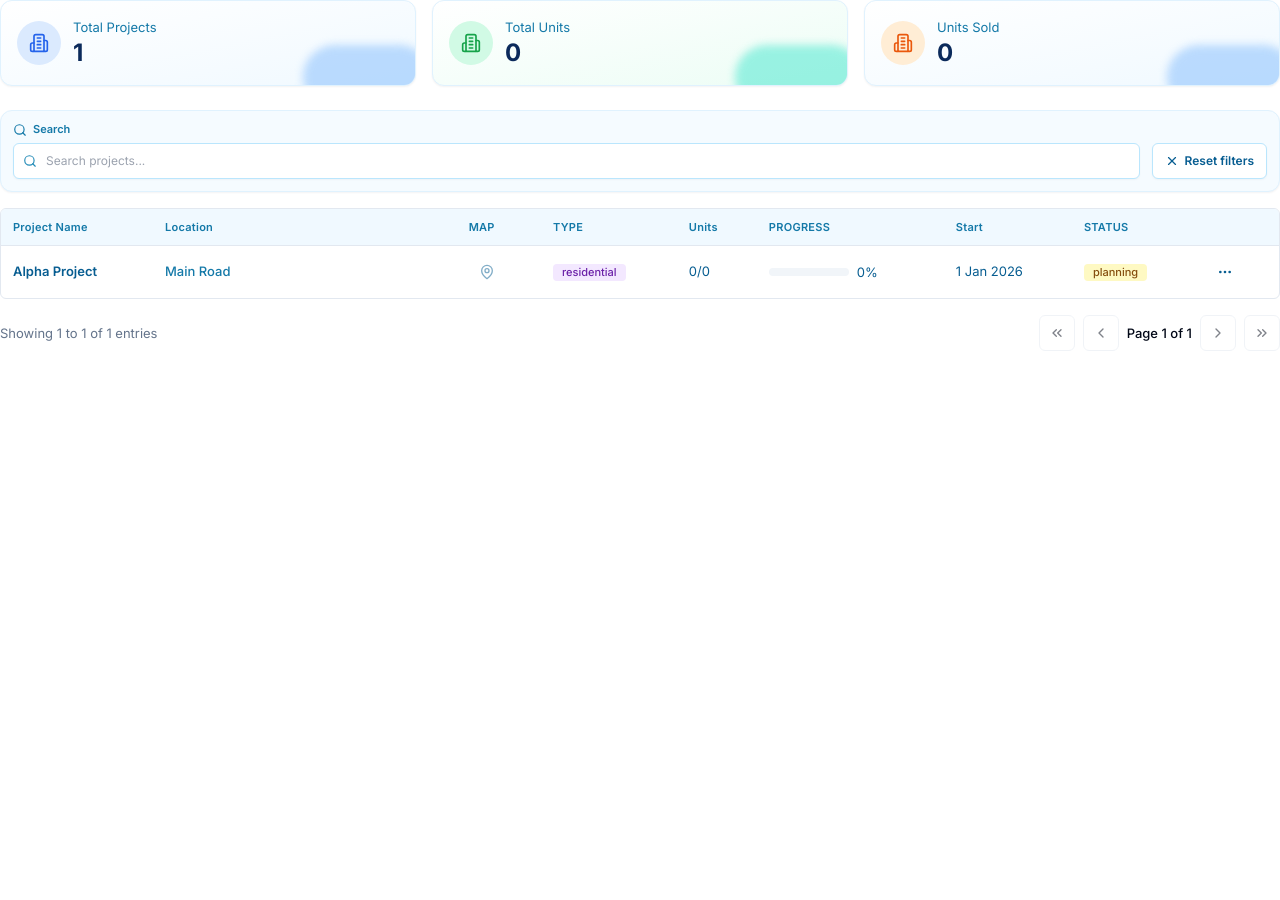
Projects page delete action › confirms deletion, calls the project API, and removes the project from the list
Press the mouse on the button named "Actions for Alpha Project" at {"x": 1225, "y": 272}, box x1=1207 y1=254 x2=1243 y2=290
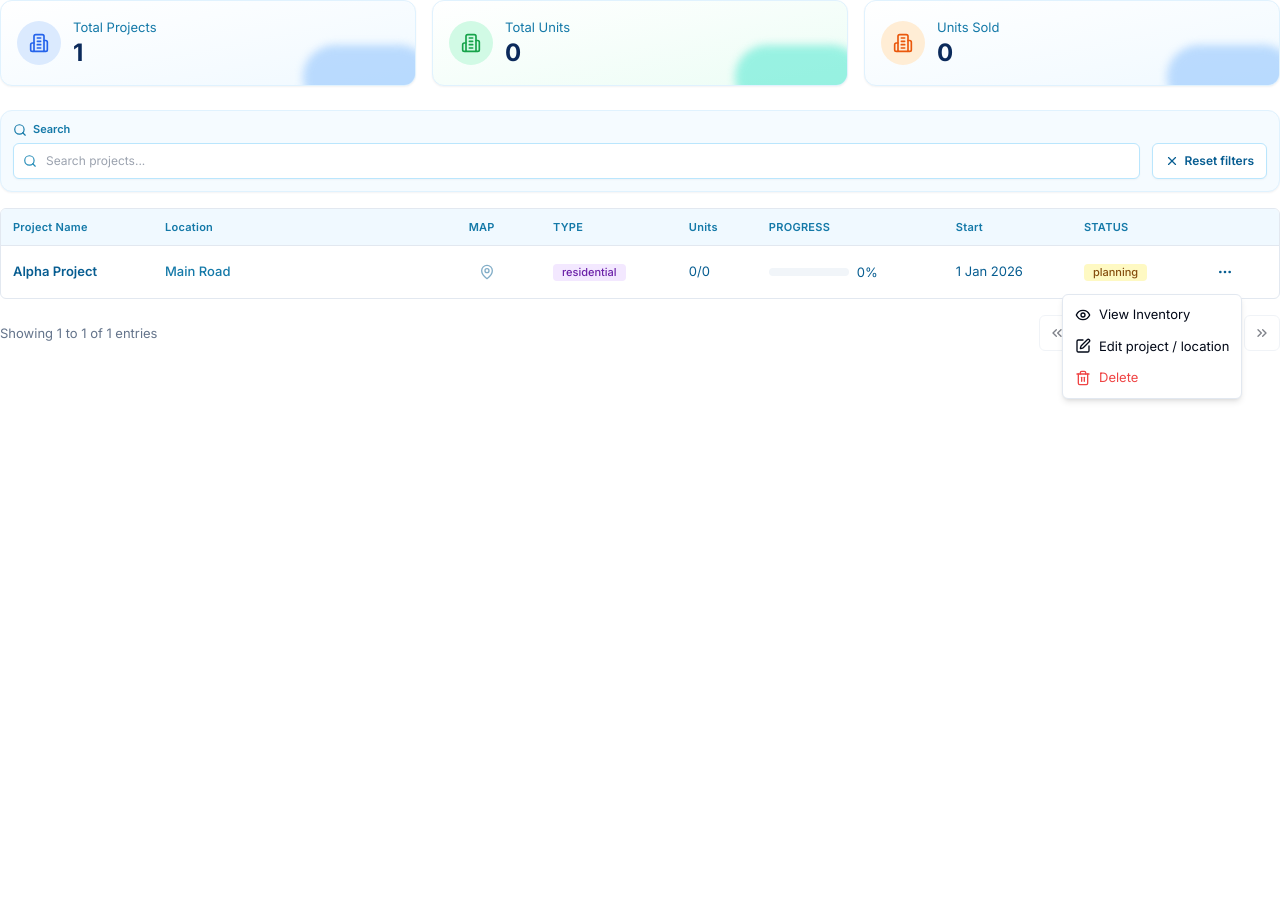
Click the menu item "Delete" at {"x": 1107, "y": 377}, box x1=1075 y1=369 x2=1138 y2=386
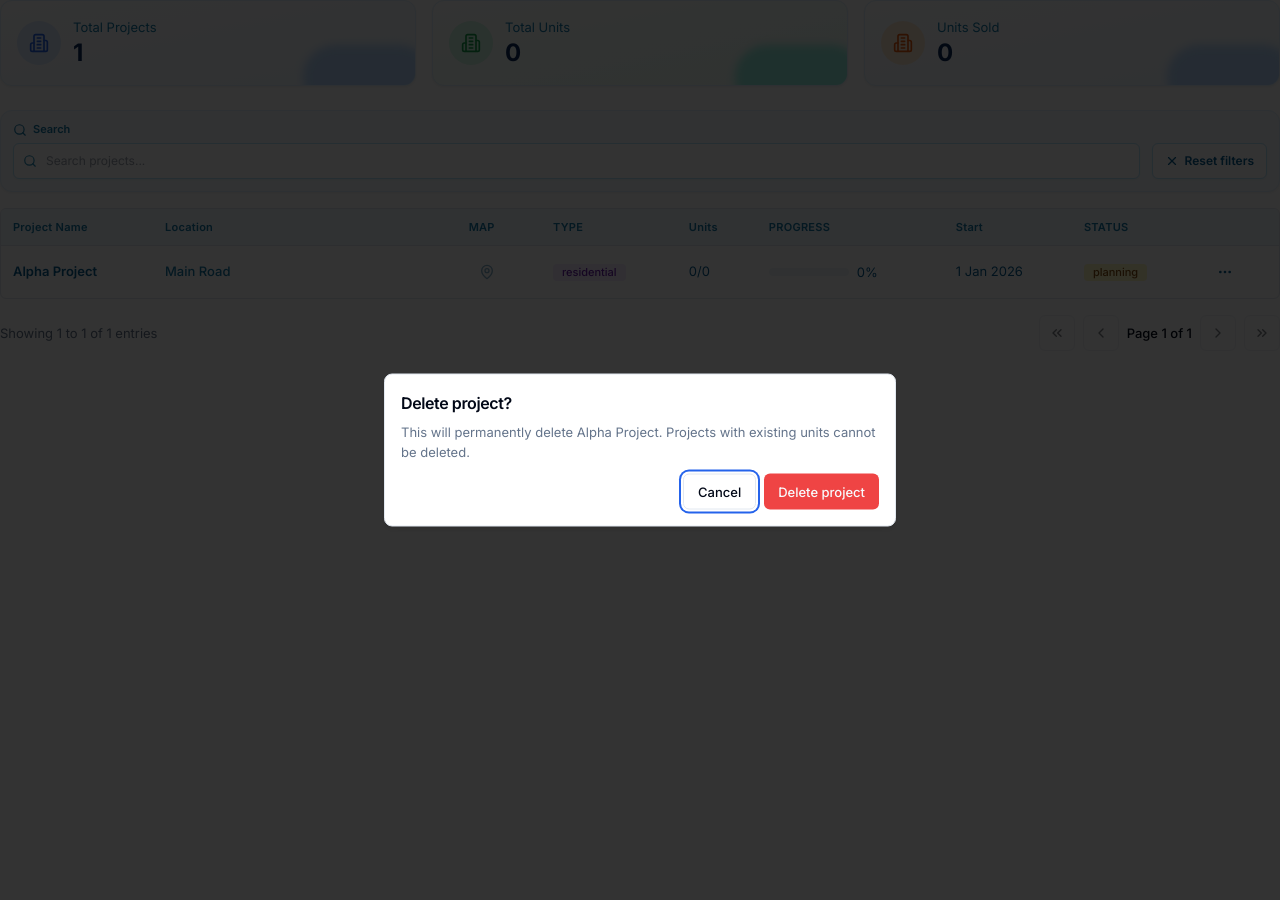
Check: the dialog is shown, box x1=384 y1=374 x2=896 y2=526
Click the button "Delete project" at {"x": 822, "y": 492}, box x1=764 y1=474 x2=879 y2=510
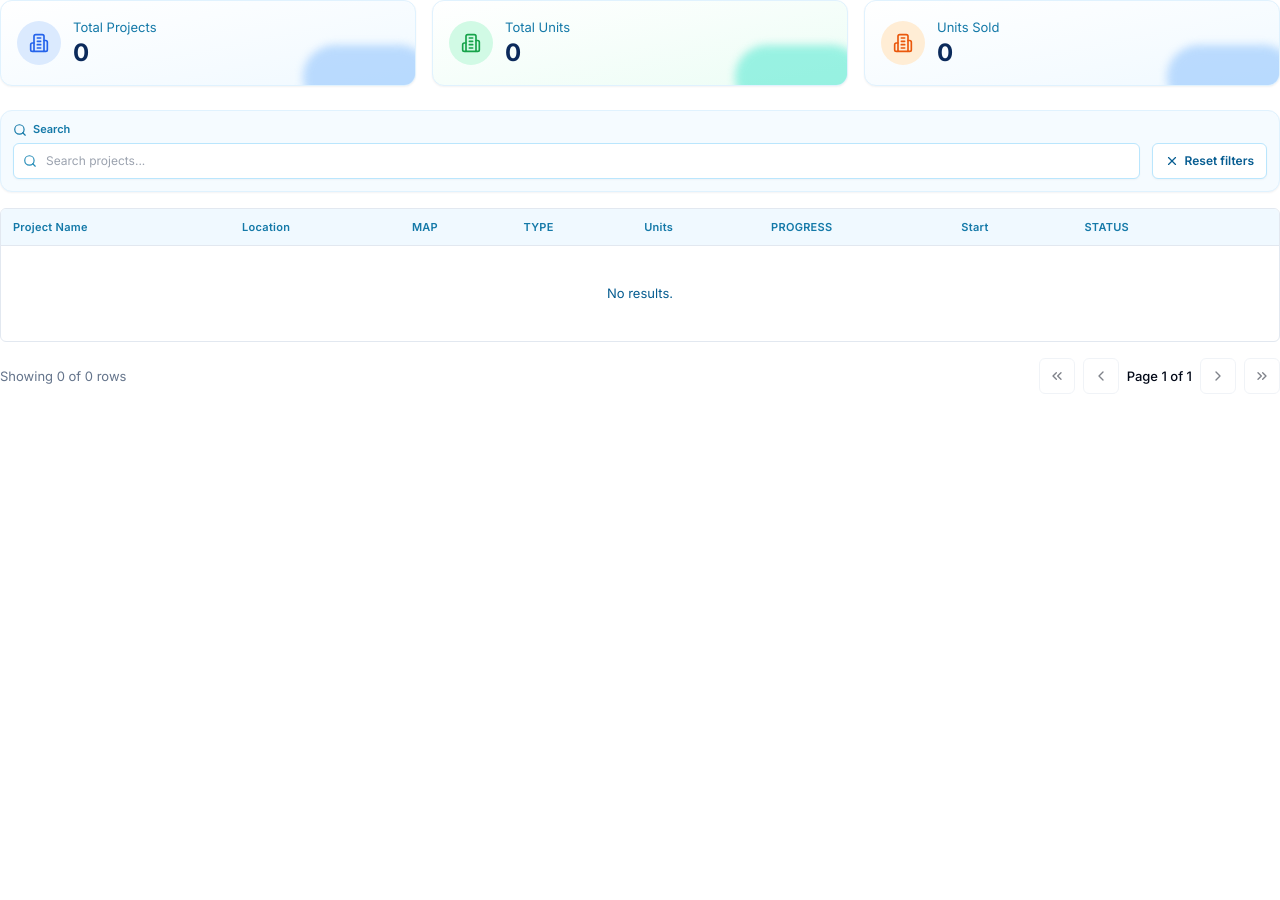
Check: the link "Alpha Project" is gone
